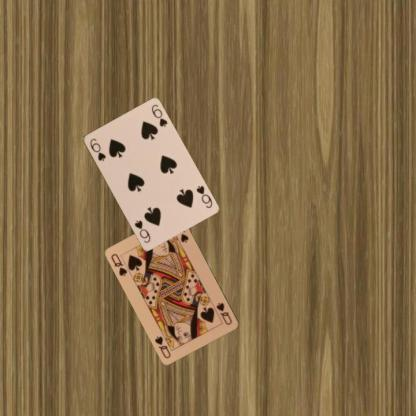6s: (87, 136, 107, 162), (194, 183, 213, 209)
Qs: (108, 251, 128, 277), (214, 300, 233, 326)
